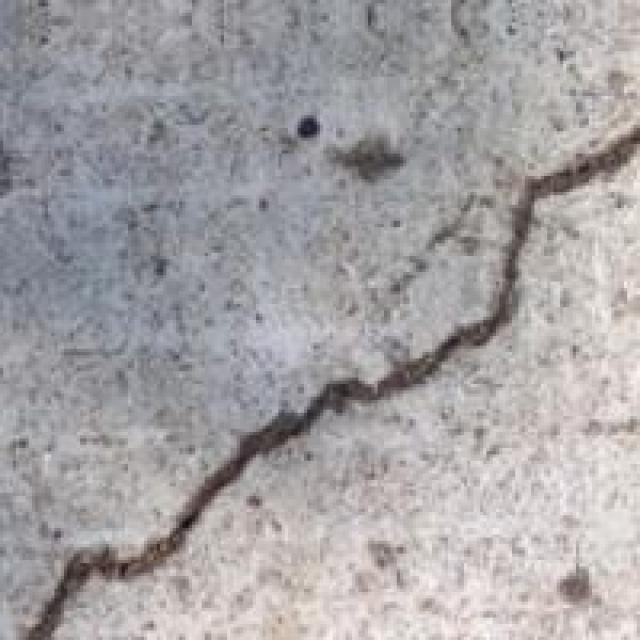Crack: (6, 96, 636, 637)
